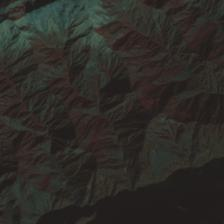landslides: (0, 103, 19, 117), (5, 110, 20, 119), (118, 129, 137, 136), (150, 126, 163, 135), (52, 77, 68, 84), (213, 47, 223, 58), (40, 152, 49, 164)
